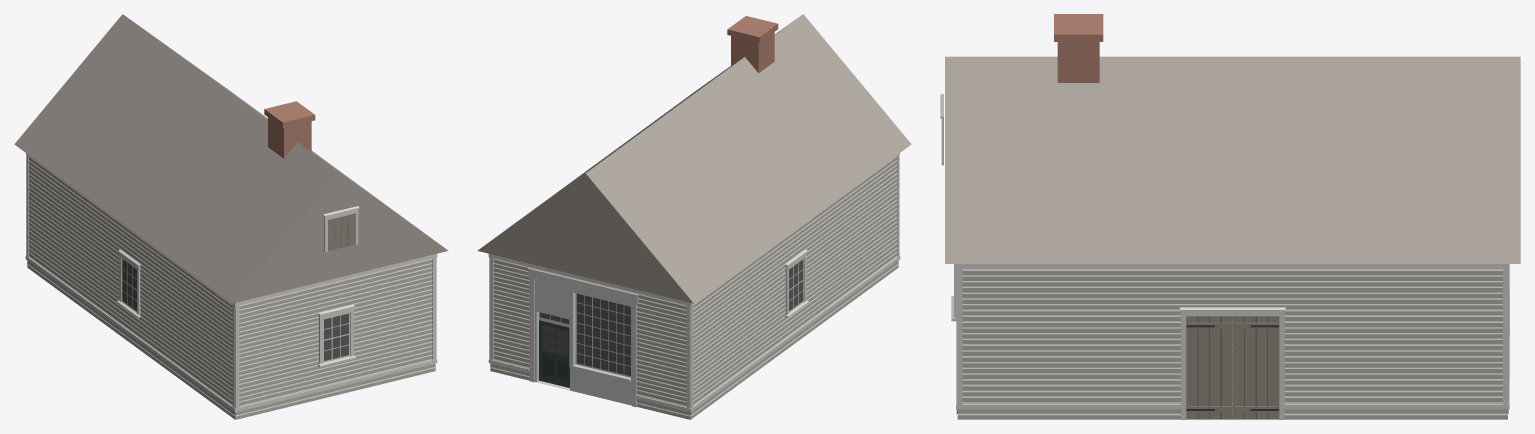
File: recon_1835_west_020__inferred_1835.glb
3 views of the same model, side by side, from view 1: azimuth 30°, elevation 25°; view 2: azimuth 150°, elevation 25°; view 3: azimuth 270°, elevation 25° (orthographic). The views are drawn at different scales.
Parts seen in each view (by area): view 1: recon_1835_west_020__inferred_1835; view 2: recon_1835_west_020__inferred_1835; view 3: recon_1835_west_020__inferred_1835.
Part boxes in pixels (x1,y1,x2,y2): recon_1835_west_020__inferred_1835: (14,14,448,419); recon_1835_west_020__inferred_1835: (477,14,911,419); recon_1835_west_020__inferred_1835: (940,14,1520,419).
Size of the model in its own units: 6.6 by 7.27 by 11.57.
